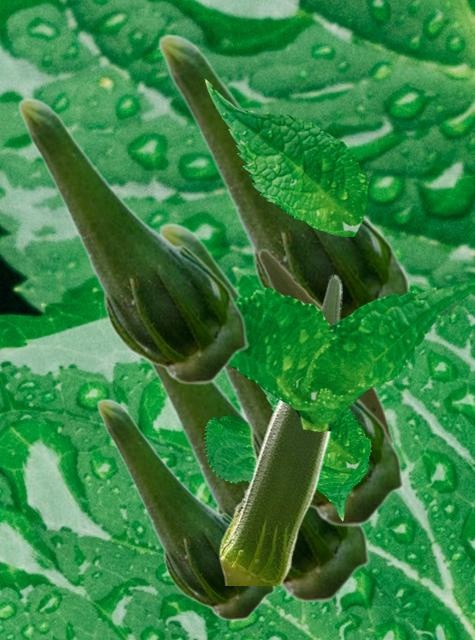okra: (158, 222, 403, 526), (157, 33, 411, 318), (17, 97, 247, 384), (147, 364, 369, 602), (96, 398, 274, 620), (218, 273, 341, 584), (257, 247, 392, 438)
